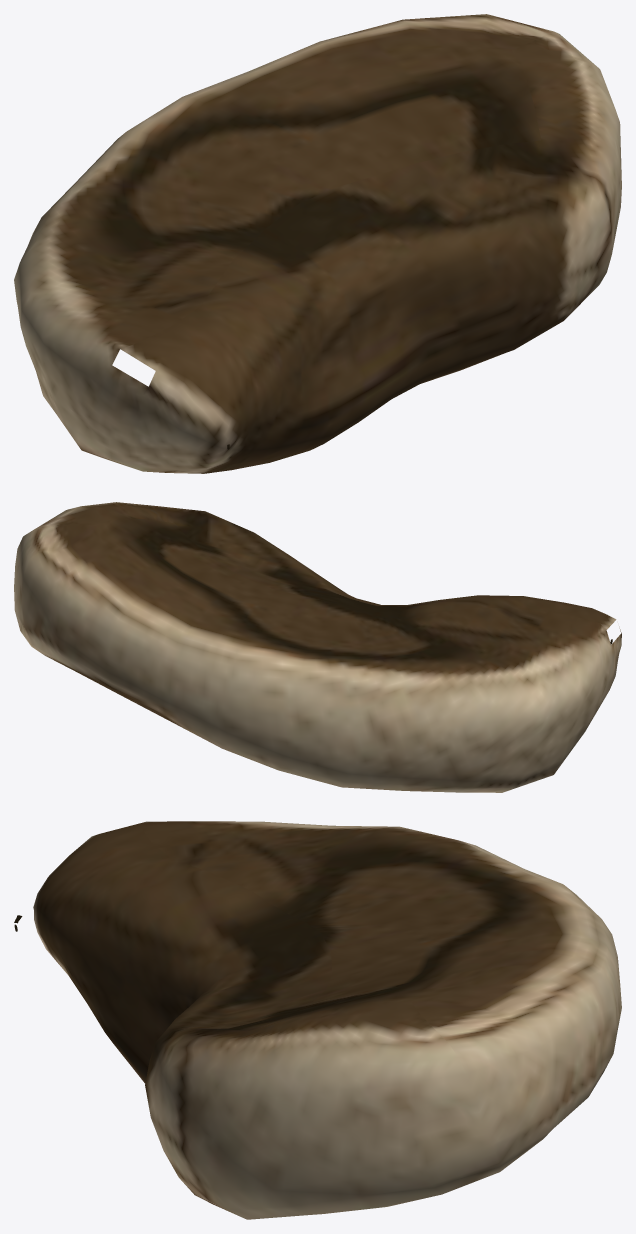
Rendered from Fourth_Tarsal.glb.
3 views of the same model, one above another, from view 1: azimuth 30°, elevation 25°; view 2: azimuth 150°, elevation 25°; view 3: azimuth 270°, elevation 25° (orthographic). The views are drawn at different scales.
Parts seen in each view (by area): view 1: L_Bck_Fourth_Tarsal; view 2: L_Bck_Fourth_Tarsal; view 3: L_Bck_Fourth_Tarsal.
Part boxes in pixels (x1=…): L_Bck_Fourth_Tarsal: x1=14, y1=14, x2=621, y2=473; L_Bck_Fourth_Tarsal: x1=14, y1=502, x2=621, y2=792; L_Bck_Fourth_Tarsal: x1=14, y1=821, x2=621, y2=1219.
Bounding box in the file's own units: 0.056 × 0.0232 × 0.0427.
1 material, 1 textured.
